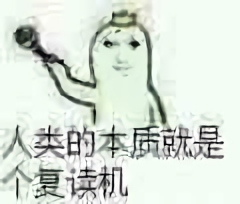dragon: (102, 38, 143, 74)
